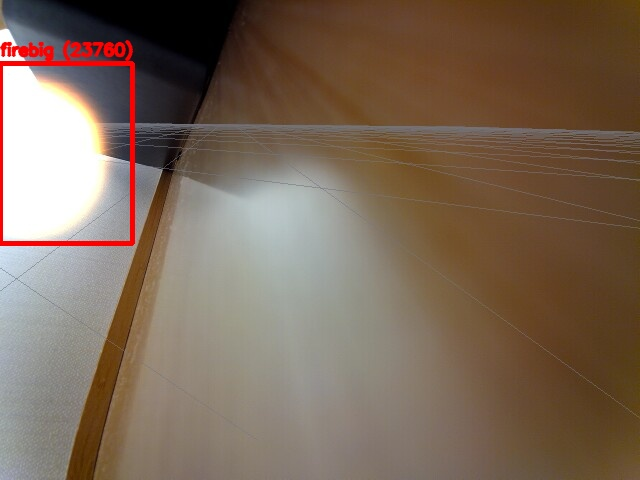firebig: (0, 63, 132, 243)
